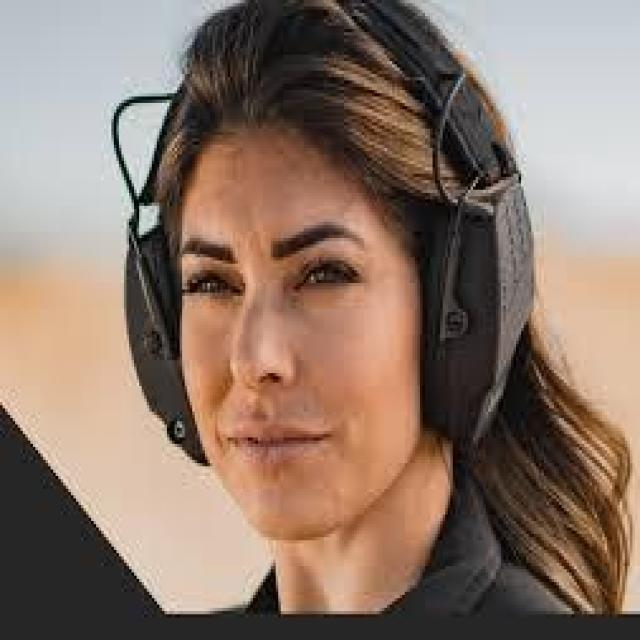Ear-protection: (97, 47, 559, 420)
